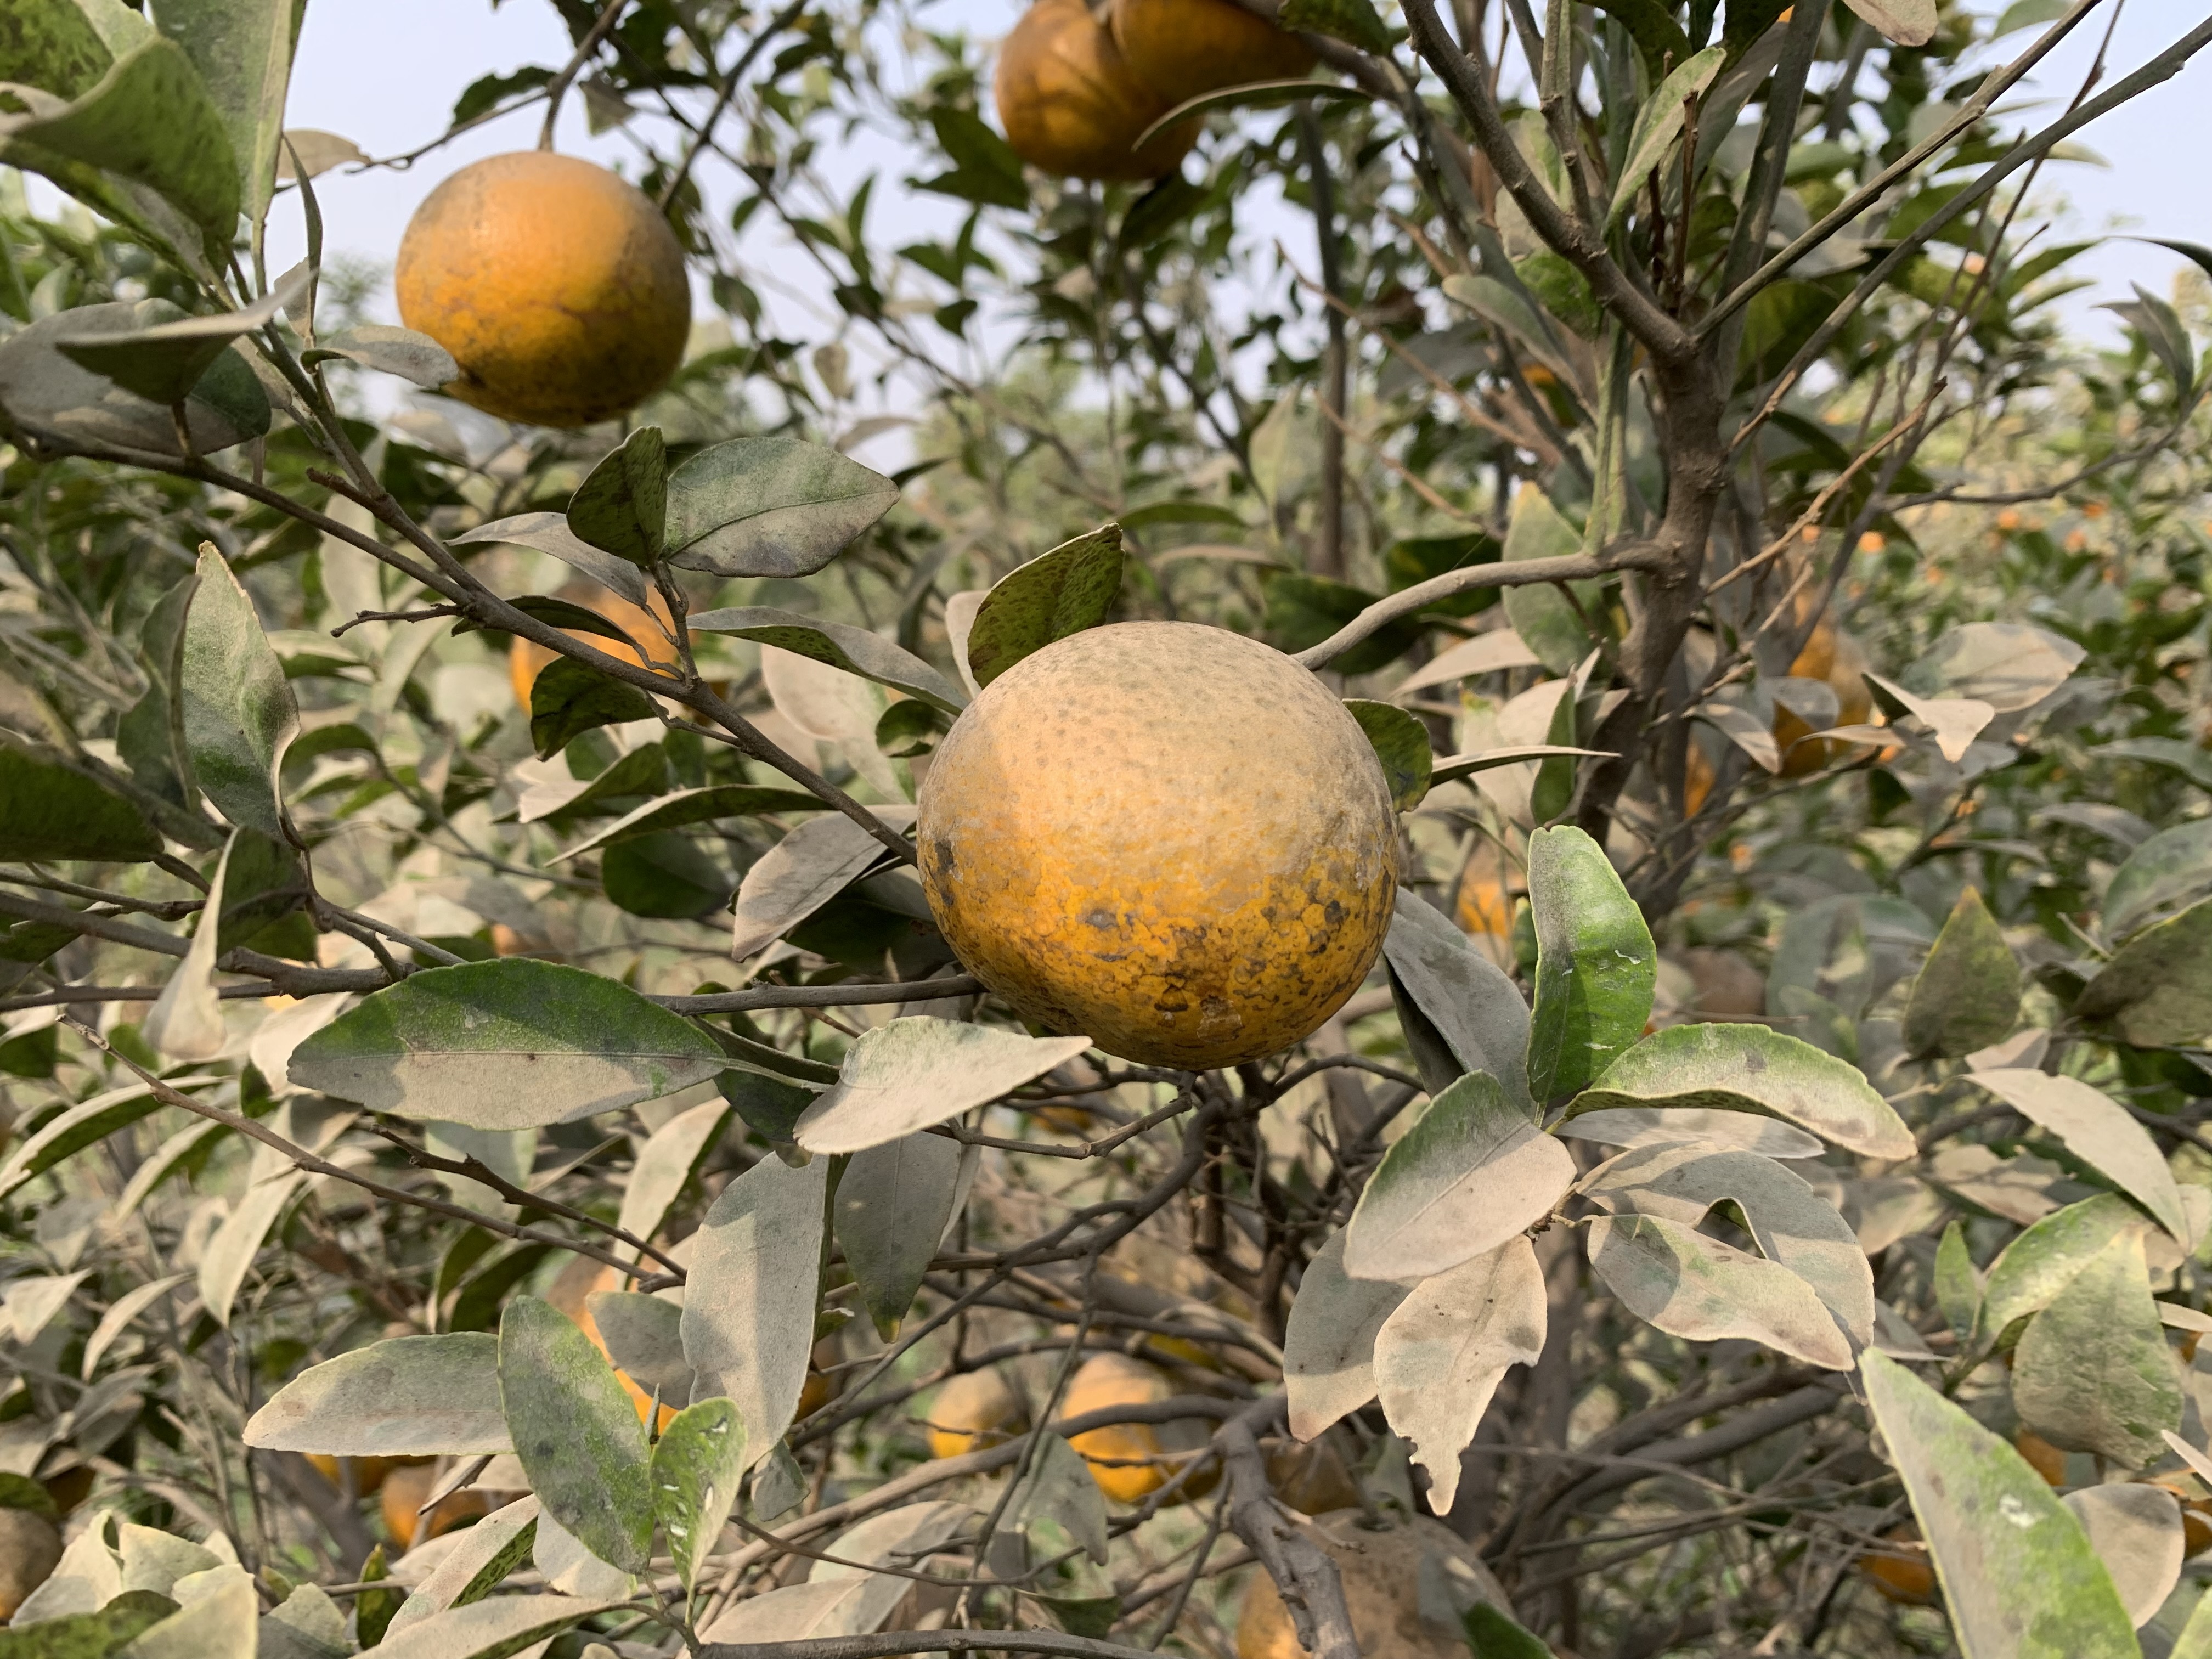orange: (914, 619, 1399, 1066), (397, 155, 693, 429), (542, 1239, 834, 1459), (1240, 1514, 1517, 1659), (995, 3, 1198, 181), (512, 573, 693, 716), (1062, 1349, 1219, 1500), (1750, 599, 1871, 782), (1113, 7, 1312, 110), (1254, 1425, 1372, 1511), (927, 1368, 1022, 1471), (381, 1459, 491, 1535), (1864, 1513, 1947, 1612), (1458, 835, 1529, 939), (303, 1453, 394, 1497), (2015, 1427, 2071, 1497)
